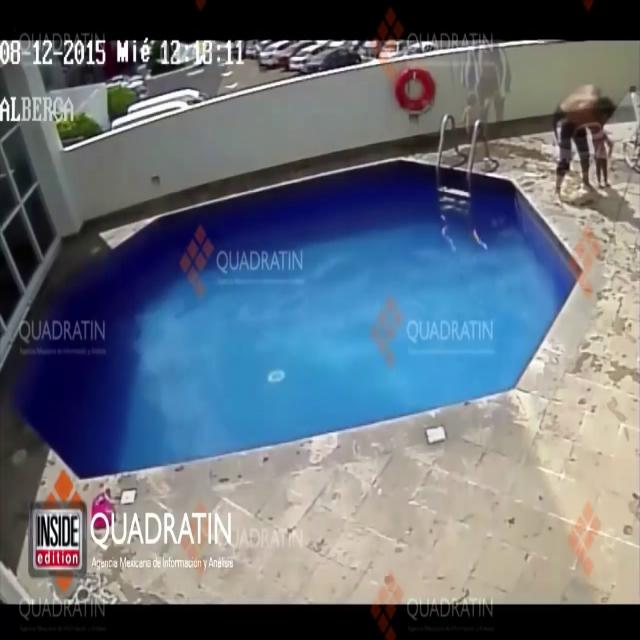adult: (554, 86, 620, 199)
child: (592, 117, 614, 188)
